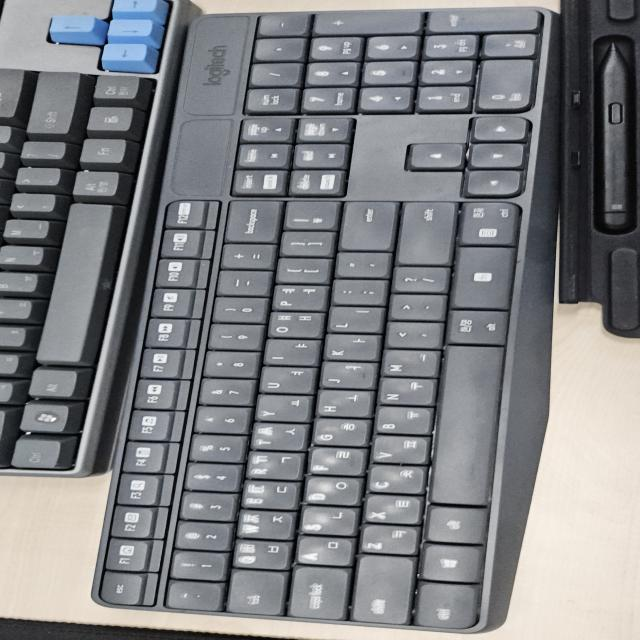Keyboard: (175, 13, 539, 632)
